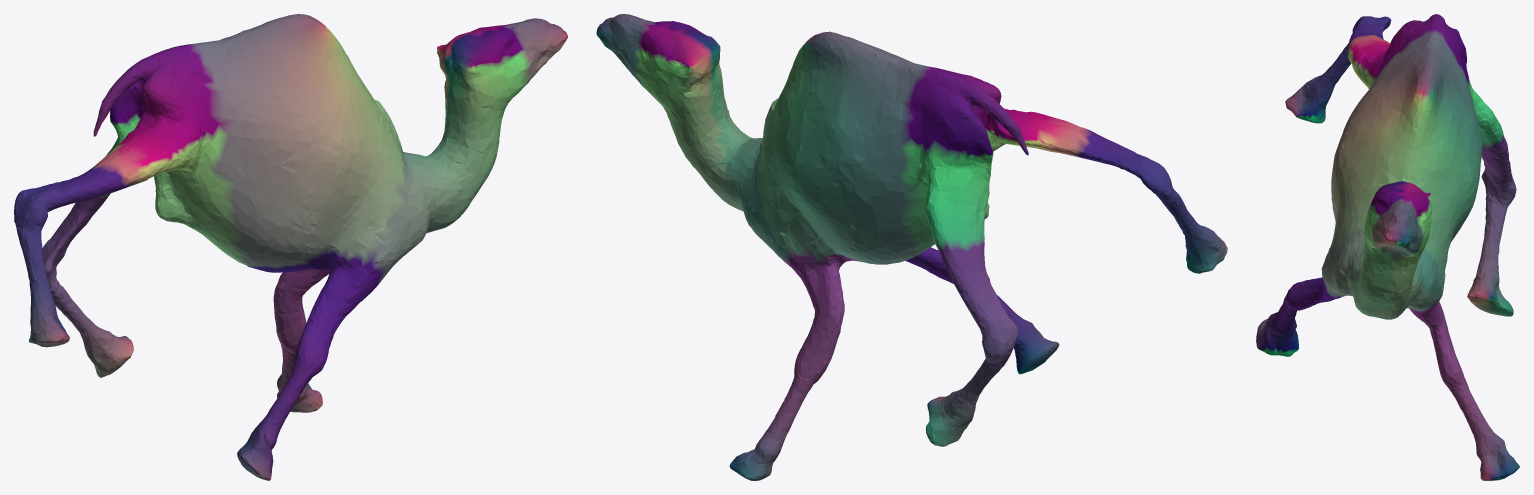
Rendered from camel-14.off.obj.
3 renders of one model, left to right at view 1: azimuth 30°, elevation 25°; view 2: azimuth 150°, elevation 25°; view 3: azimuth 270°, elevation 25°, orthographic. The views are drawn at different scales.
Bounding box in the file's own units: 1.68 × 1.19 × 0.7288.
